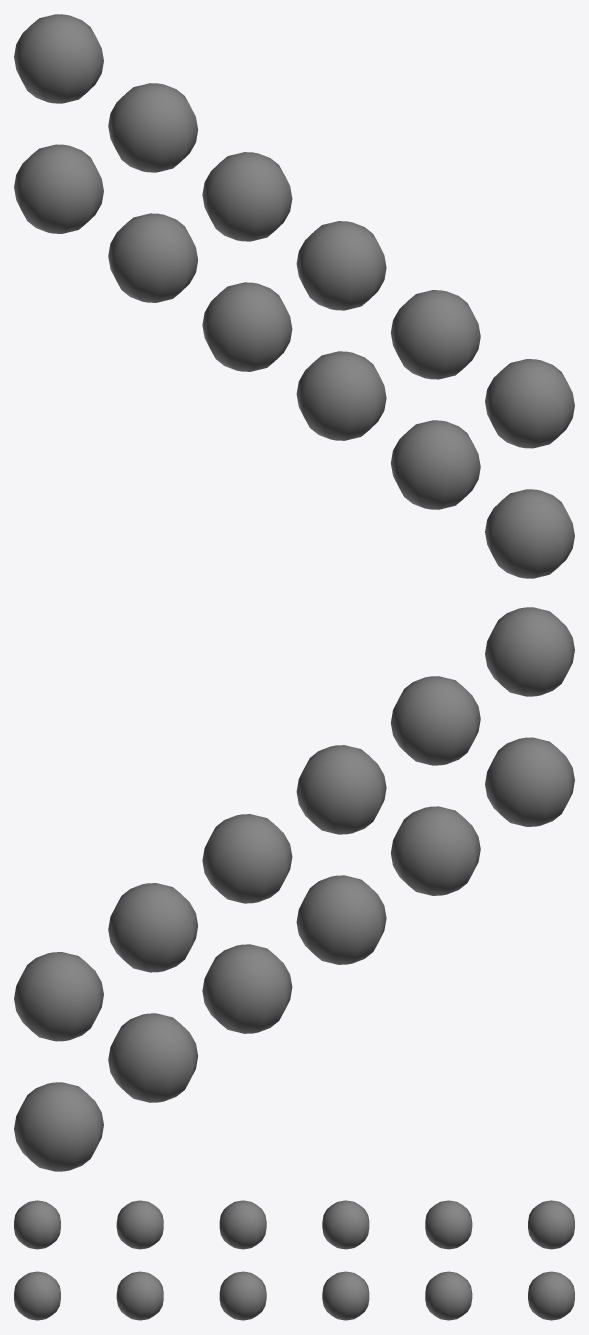
File: PBL_test_balls.fbx
3 views of the same model, one above another, from view 1: azimuth 30°, elevation 25°; view 2: azimuth 150°, elevation 25°; view 3: azimuth 270°, elevation 25° (orthographic). The views are drawn at different scales.
Visible parts, largest first — view 1: metalBalls, nonMetalBalls; view 2: metalBalls, nonMetalBalls; view 3: metalBalls, nonMetalBalls.
Boxes of the visible parts, x1,y1,x2,y2 form: metalBalls: [14, 14, 574, 448]; nonMetalBalls: [14, 144, 574, 578]; metalBalls: [14, 607, 574, 1041]; nonMetalBalls: [14, 737, 574, 1171]; metalBalls: [14, 1200, 574, 1249]; nonMetalBalls: [14, 1271, 574, 1320].
Bounding box in the file's own units: 0.00357 × 0.00924 × 0.0405.
